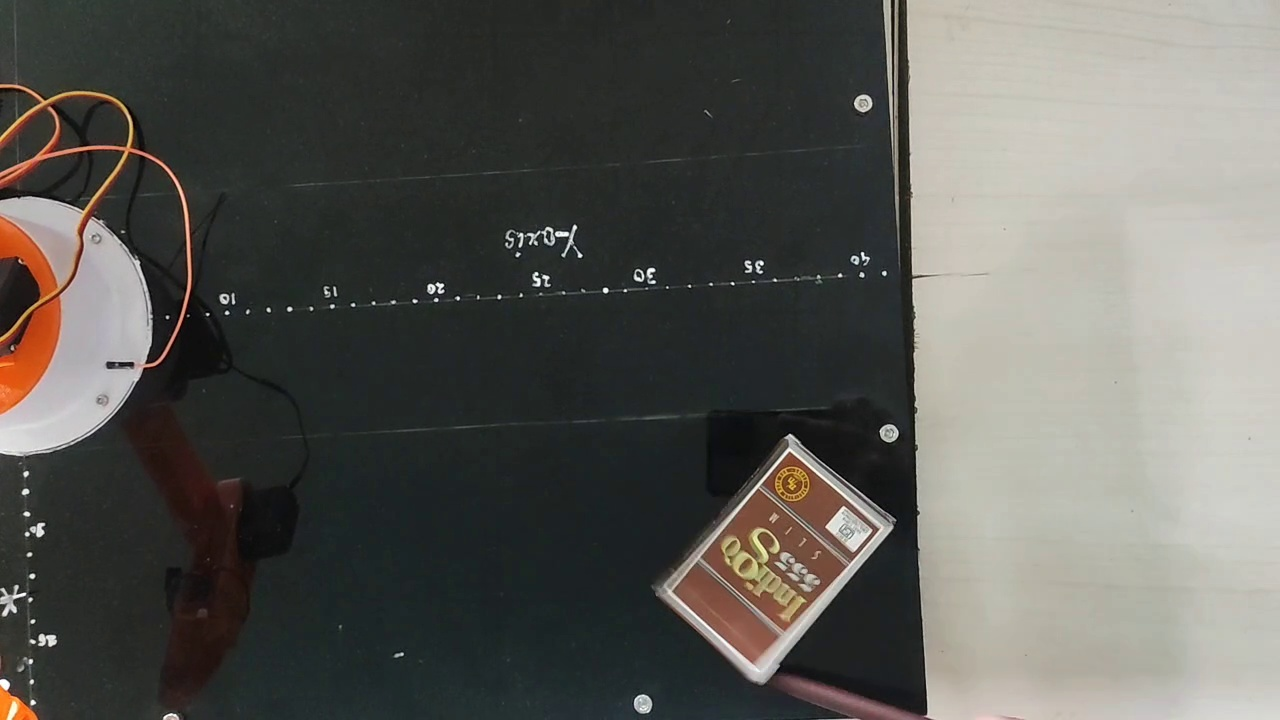BEX: (670, 449, 880, 664)
